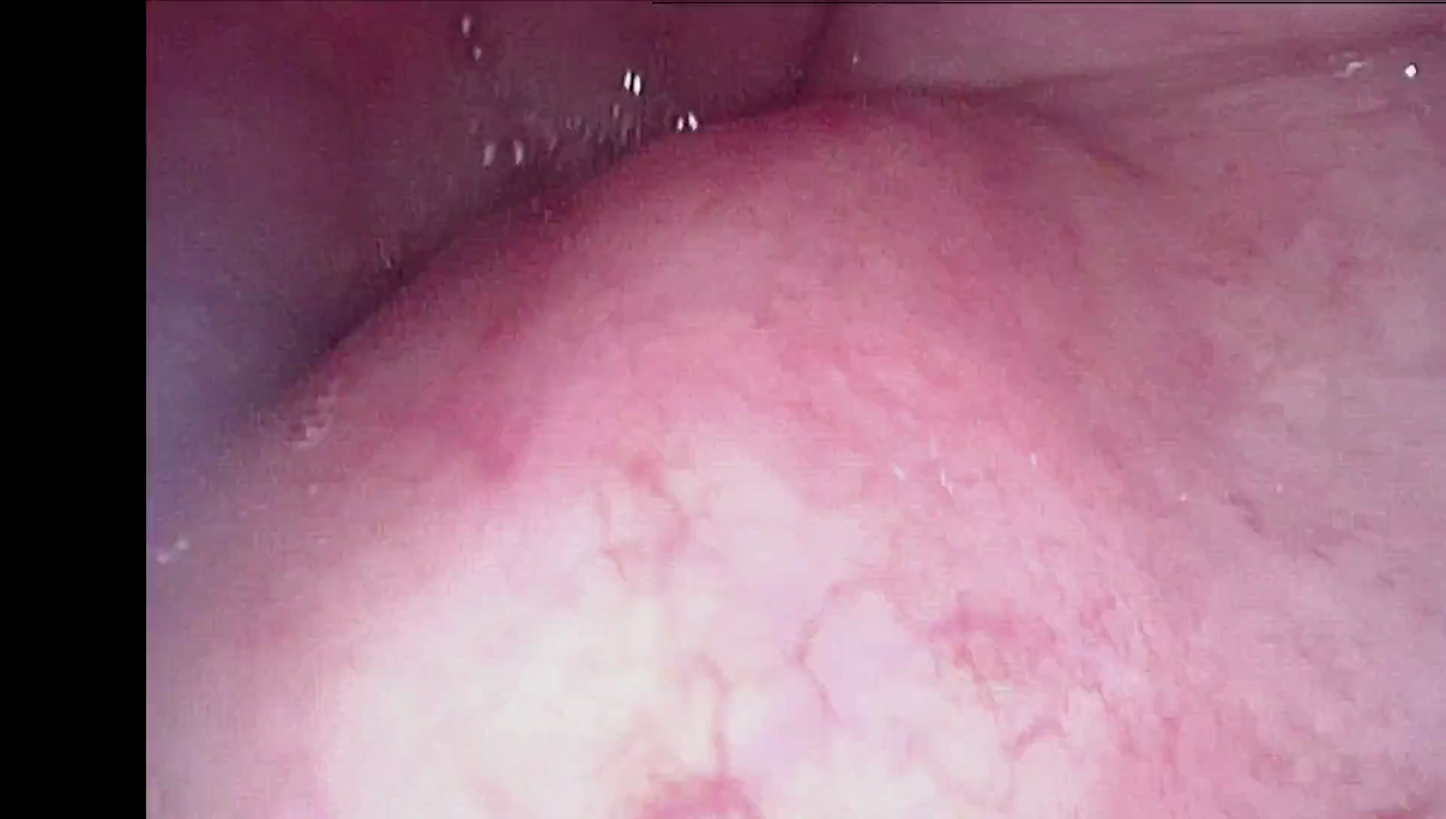close_wall: (335, 293, 1221, 819)
